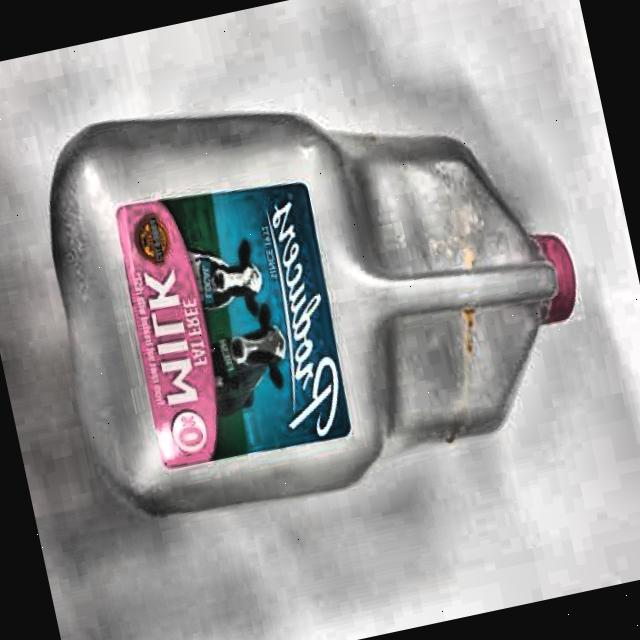plastic: (21, 28, 612, 542)
